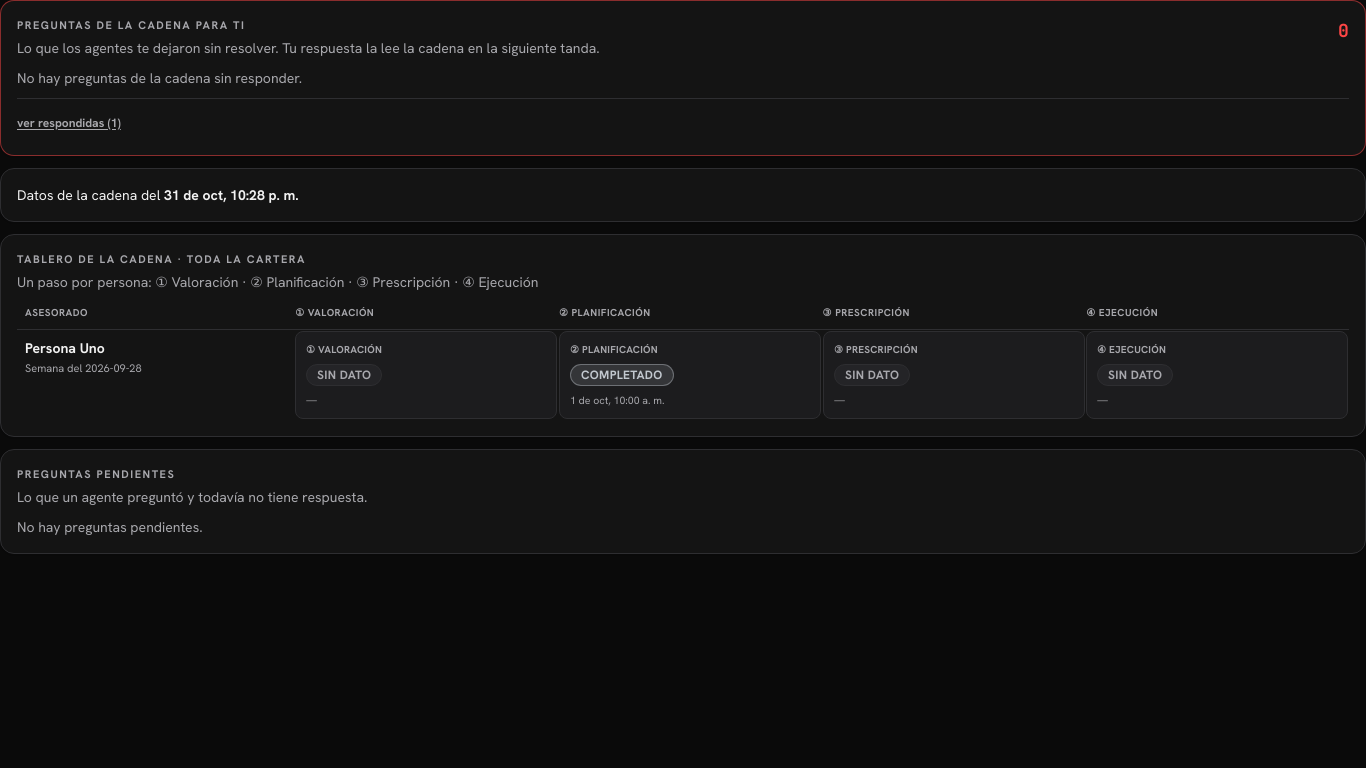
AgentesTab · preguntas de la cadena para el coach › una pregunta que ya tiene respuesta guardada no está en pendientes y sí en respondidas
Click the button "ver respondidas (1)" at (69, 123), box [17,107,121,139]
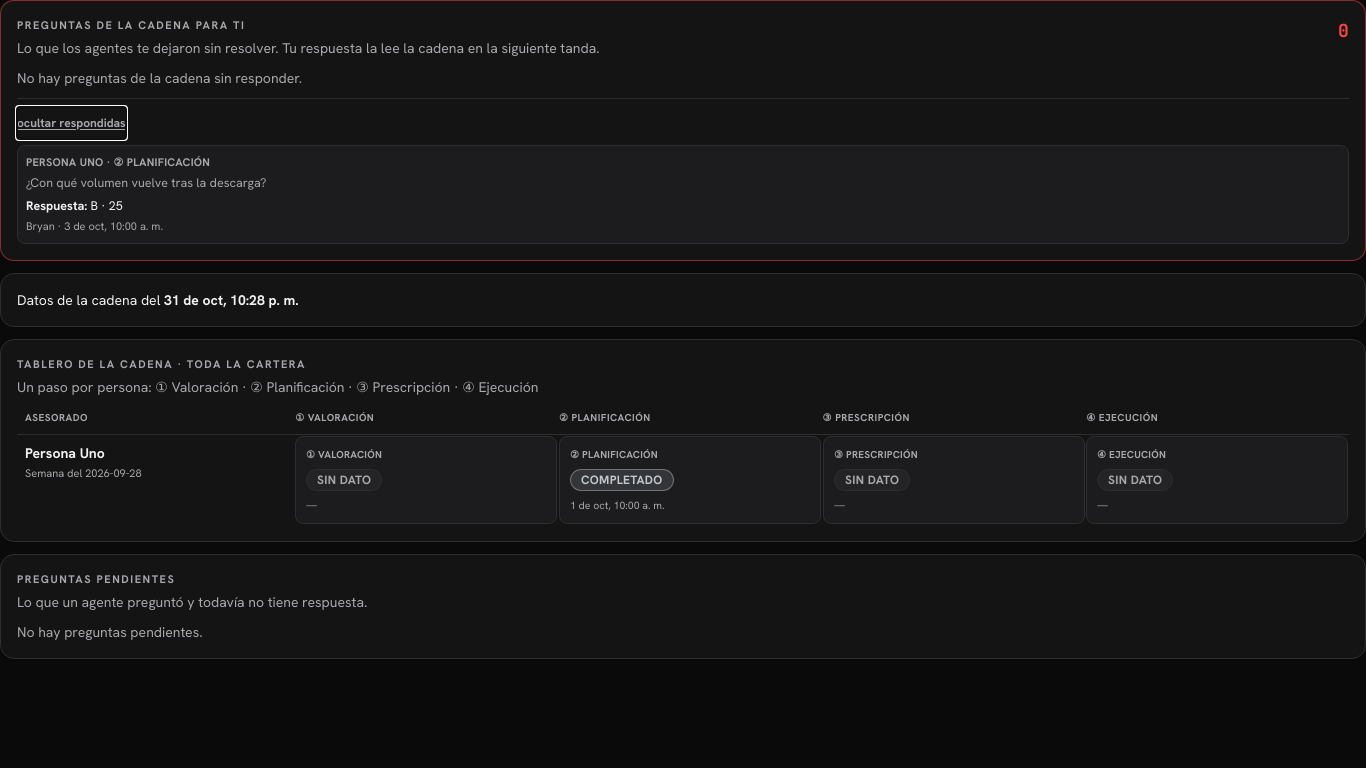
Expected: the text "No hay preguntas de la cadena sin responder." is shown, [17,69,302,87]
Expected: the list named "Preguntas respondidas" shows "B · 25", [91,198,123,214]
